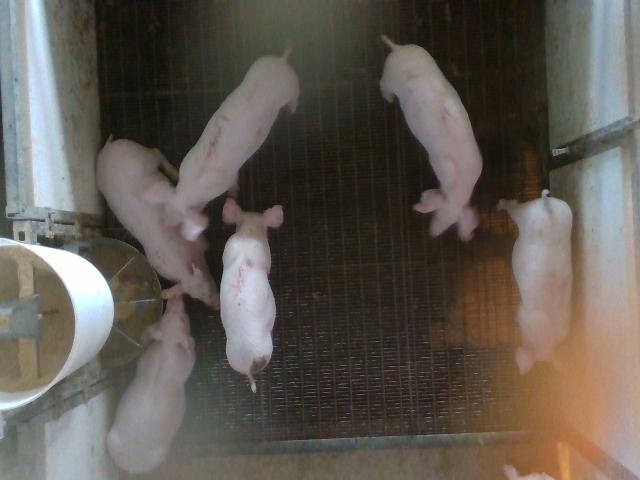pig-3: (145, 50, 299, 239)
pig-4: (498, 190, 572, 373)
pig-5: (221, 198, 284, 392)
